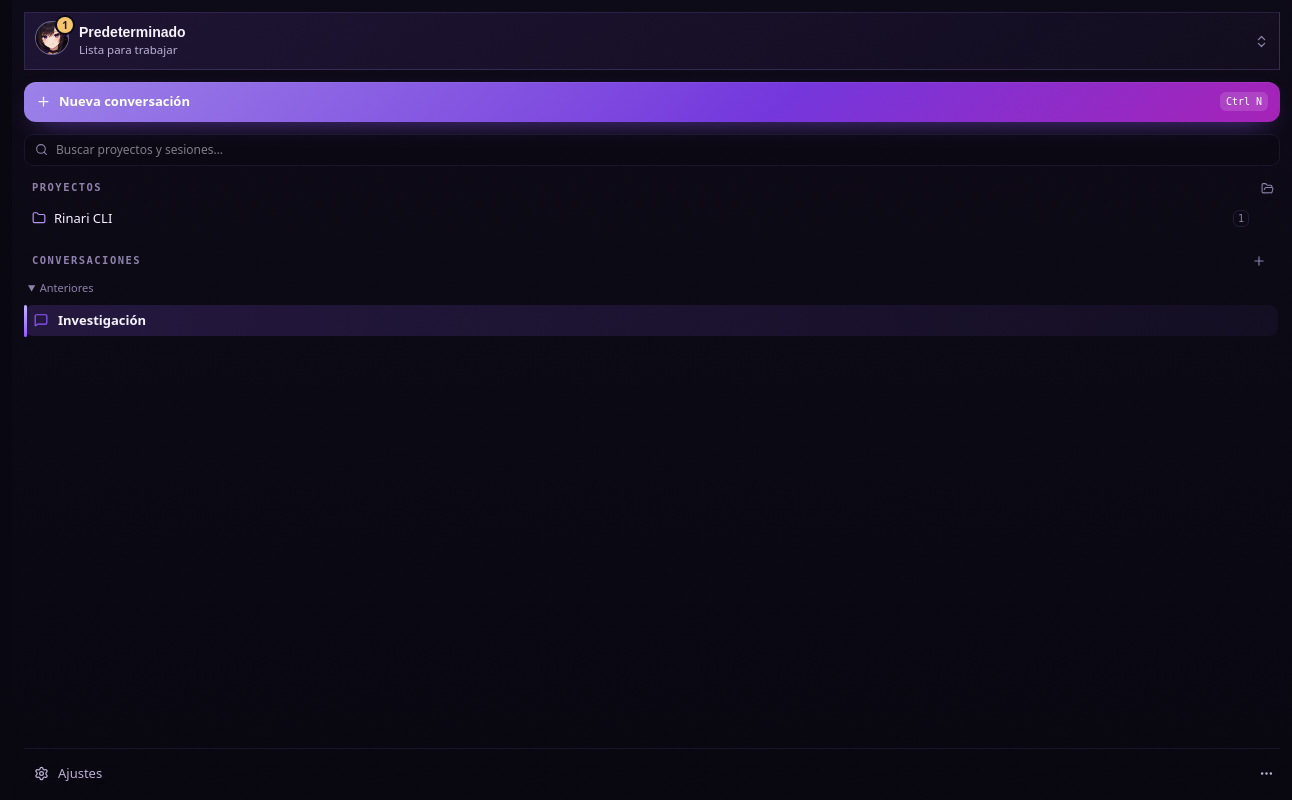
pending in other profiles (#34) › the switcher shows a dot with the number, and the menu shows each other profile with its own
Expected: the message with test id "profile-pending-badge" reads "1", [62,18,68,32]
Click the button with test id "profile-switcher": x=52, y=38 [24,12,1280,70]
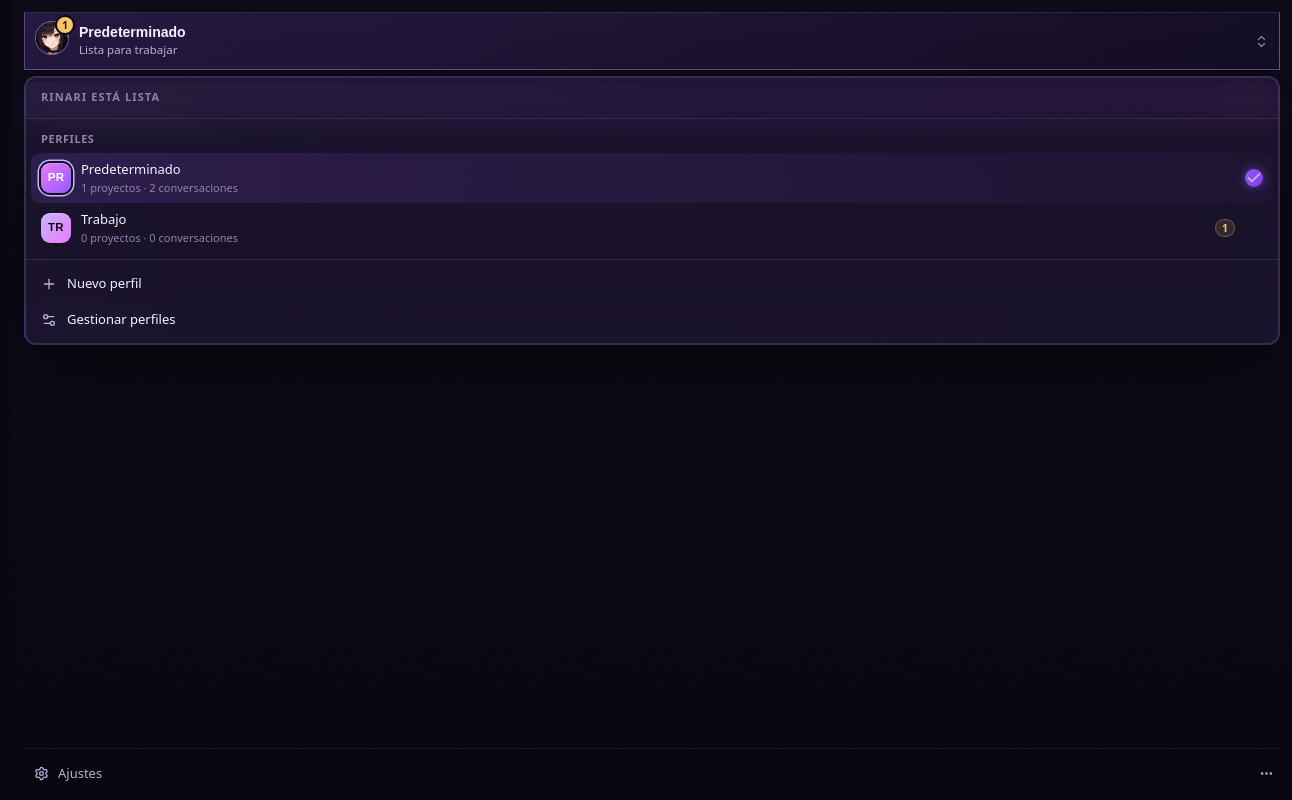
Result: the elements with test id "profile-pending-count" read "1", in this order at [1215,219,1235,237]
